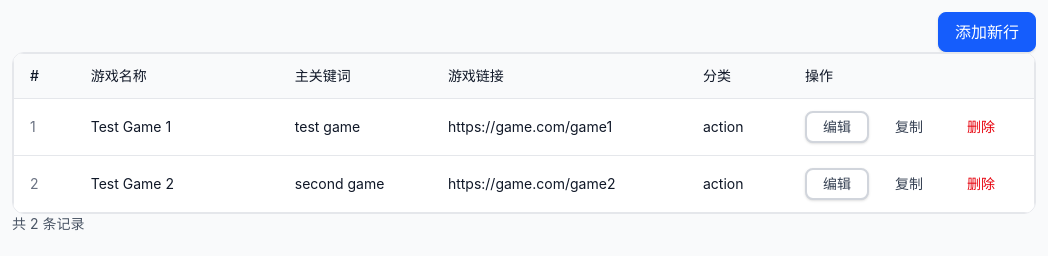
Test: EditableTable组件 › 应该支持不同的编辑器类型
Click the button "编辑" in the row of "Test Game 1".
click(837, 127)  # box [805,111,869,143]
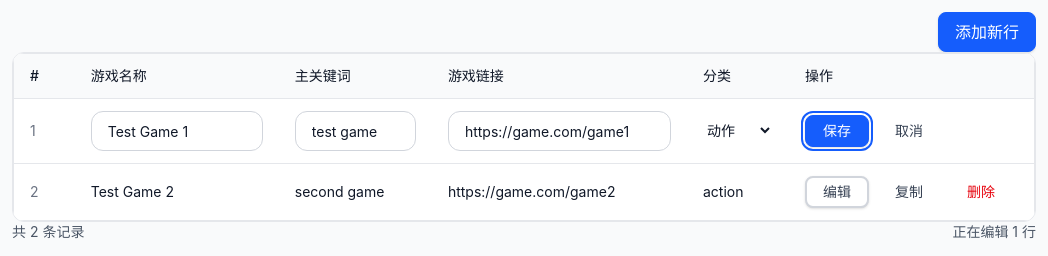
Now the dropdown is shown, box [703,121,773,140]
